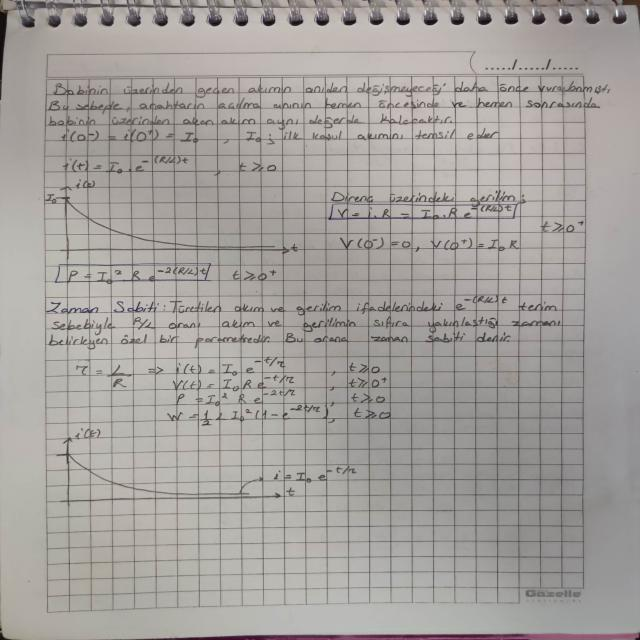image: (56, 423, 373, 509), (37, 176, 303, 264)
math: (169, 354, 397, 426), (51, 124, 282, 178), (56, 262, 286, 288), (338, 233, 525, 254), (327, 206, 526, 222), (70, 361, 138, 396), (540, 214, 591, 234)
text: (43, 76, 615, 126), (46, 298, 567, 346), (273, 128, 507, 143), (324, 189, 523, 204)
